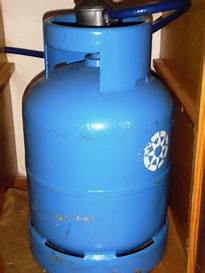blue_gas: (21, 7, 175, 273)
